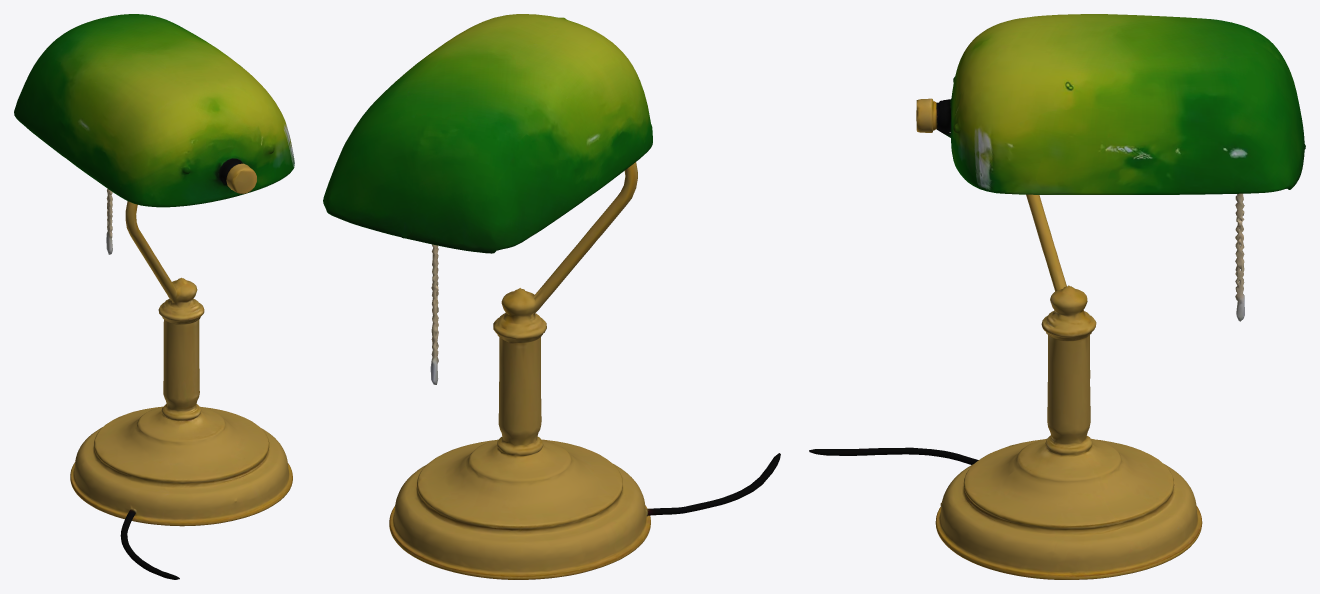
File: lamp.glb
3 views of the same model, side by side, from view 1: azimuth 30°, elevation 25°; view 2: azimuth 150°, elevation 25°; view 3: azimuth 270°, elevation 25° (orthographic). The views are drawn at different scales.
Parts seen in each view (by area): view 1: tripo_node_e883f1c2-a854-4966-9298-fc082a8d571a; view 2: tripo_node_e883f1c2-a854-4966-9298-fc082a8d571a; view 3: tripo_node_e883f1c2-a854-4966-9298-fc082a8d571a.
Part boxes in pixels (bbox=[...]): tripo_node_e883f1c2-a854-4966-9298-fc082a8d571a: bbox=[14, 14, 294, 579]; tripo_node_e883f1c2-a854-4966-9298-fc082a8d571a: bbox=[323, 14, 780, 579]; tripo_node_e883f1c2-a854-4966-9298-fc082a8d571a: bbox=[809, 14, 1305, 579].
Size of the model in its own units: 0.2484 by 0.45 by 0.4113.
Materials: 1 (1 with a texture image).
